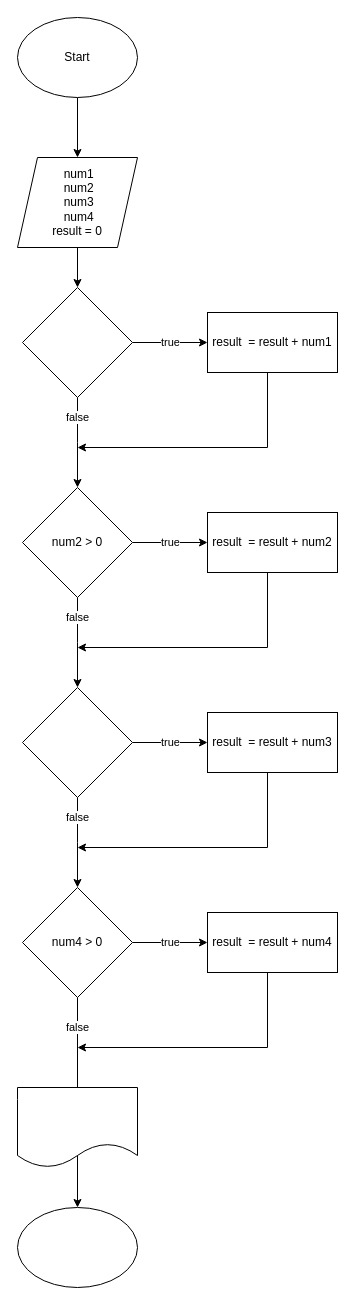
Image size: 355x1305. Some labels were removed from this diagram. Here are the shapes that lost their labels. From the top down, the box of each, then its label:
(22, 286, 132, 398): num1 > 0
(22, 686, 132, 798): num3 > 0
(16, 1086, 138, 1168): result
(16, 1206, 138, 1288): End
